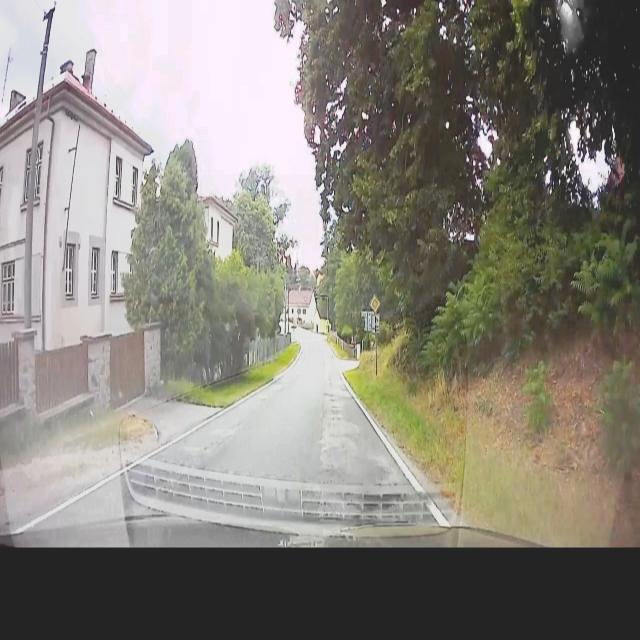Priority road: (369, 294, 381, 314)
